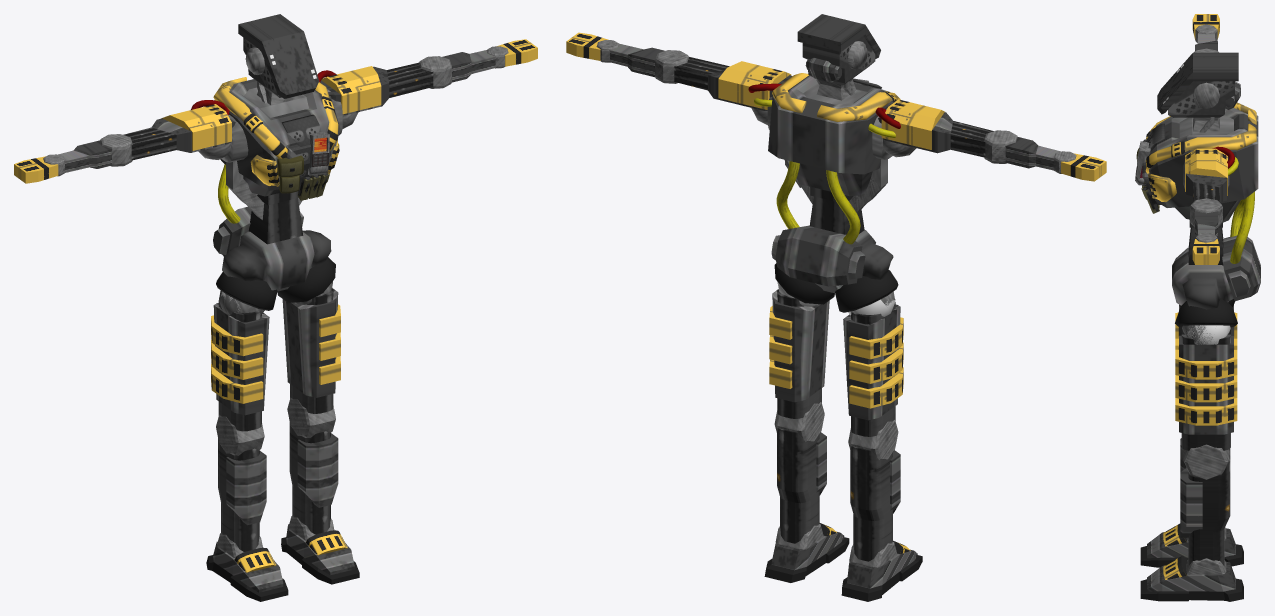
File: Robot 10 rig.fbx
The picture shows the model from 3 angles, left to right: view 1: azimuth 30°, elevation 25°; view 2: azimuth 150°, elevation 25°; view 3: azimuth 270°, elevation 25°; orthographic projection. The views are drawn at different scales.
Visible parts, largest first — view 1: Cube.021, Cube.011, Icosphere.011, Icosphere.009, Cylinder.003, Cylinder.001, Cube.052, Icosphere.004, Icosphere.002, Cube.015, Cube.043, Cylinder (+4 smaller); view 2: Cube.021, Cube.011, Icosphere.011, Icosphere.009, Cylinder.001, Cylinder.003, Icosphere.004, Cube.052, Icosphere.002, Cube.043, Cube.015, Cylinder (+4 smaller); view 3: Cube.021, Icosphere.009, Cylinder.003, Cube.011, Cube.052, Cube.043, Icosphere.002, Cube.015, Cylinder.007, Icosphere.001, Cube.019, Cylinder (+5 smaller).
Part boxes in pixels (x1,y1,x2,y2): Cube.021: (213, 77, 342, 223); Cube.011: (213, 206, 335, 310); Icosphere.011: (211, 290, 269, 431); Icosphere.009: (282, 281, 340, 413); Cylinder.003: (287, 397, 338, 540); Cylinder.001: (216, 414, 266, 557); Cube.052: (238, 14, 319, 98); Icosphere.004: (123, 100, 235, 160); Icosphere.002: (317, 62, 433, 129); Cube.015: (206, 541, 288, 601); Cube.043: (281, 524, 359, 584); Cylinder: (43, 134, 132, 176); Cube.021: (767, 73, 900, 244); Cube.011: (771, 225, 898, 312); Icosphere.011: (843, 291, 903, 436); Icosphere.009: (769, 282, 829, 418); Cylinder.001: (848, 420, 900, 567); Cylinder.003: (774, 402, 826, 549); Icosphere.004: (868, 99, 993, 157); Cube.052: (797, 14, 880, 85); Icosphere.002: (674, 57, 791, 125); Cube.043: (764, 523, 849, 582); Cube.015: (841, 540, 922, 601); Cylinder: (984, 130, 1076, 173); Cube.021: (1135, 102, 1258, 263); Icosphere.009: (1175, 325, 1237, 450); Cylinder.003: (1180, 444, 1230, 574); Cube.011: (1172, 235, 1260, 327); Cube.052: (1157, 52, 1240, 117); Cube.043: (1140, 556, 1243, 601); Icosphere.002: (1185, 146, 1238, 201); Cube.015: (1140, 523, 1243, 567); Cylinder.007: (1190, 198, 1222, 242); Icosphere.001: (1186, 325, 1230, 344); Cube.019: (1192, 239, 1219, 264); Cylinder: (1194, 24, 1218, 52).
Size of the model in its own units: 1250 by 1245 by 277.
